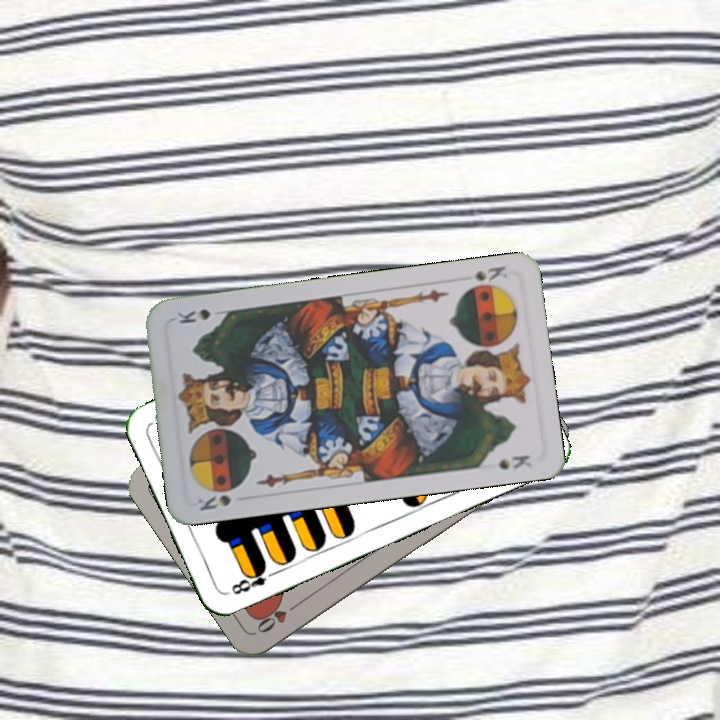E8: (227, 561, 281, 597)
HO: (253, 596, 304, 636)
SK: (193, 491, 234, 513), (471, 261, 510, 284)
